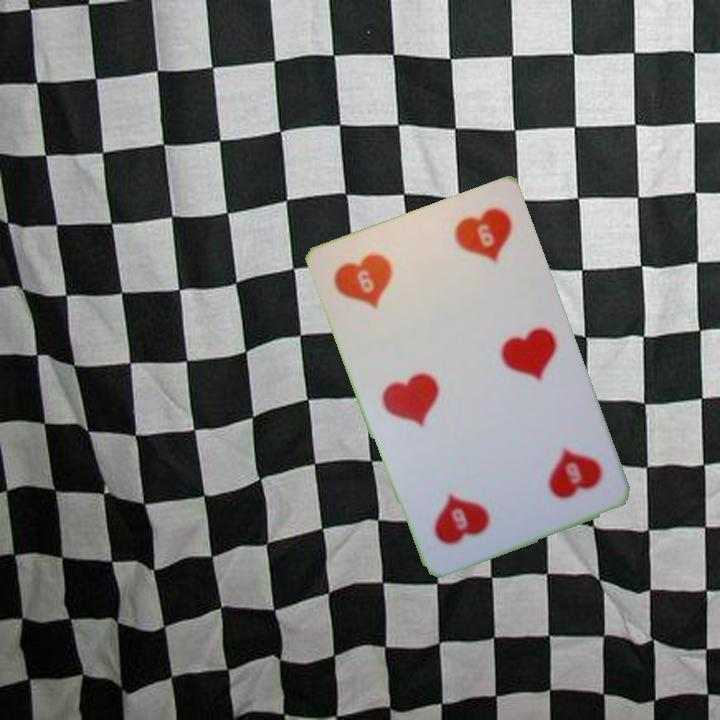h_6.png: (493, 416, 615, 530), (323, 227, 445, 340)
